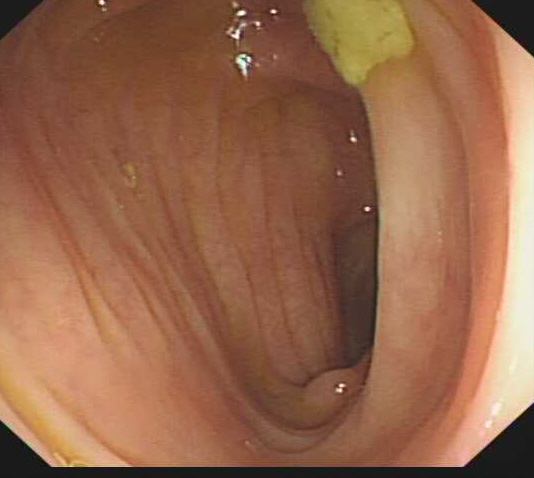adenoma: (298, 364, 361, 409)
